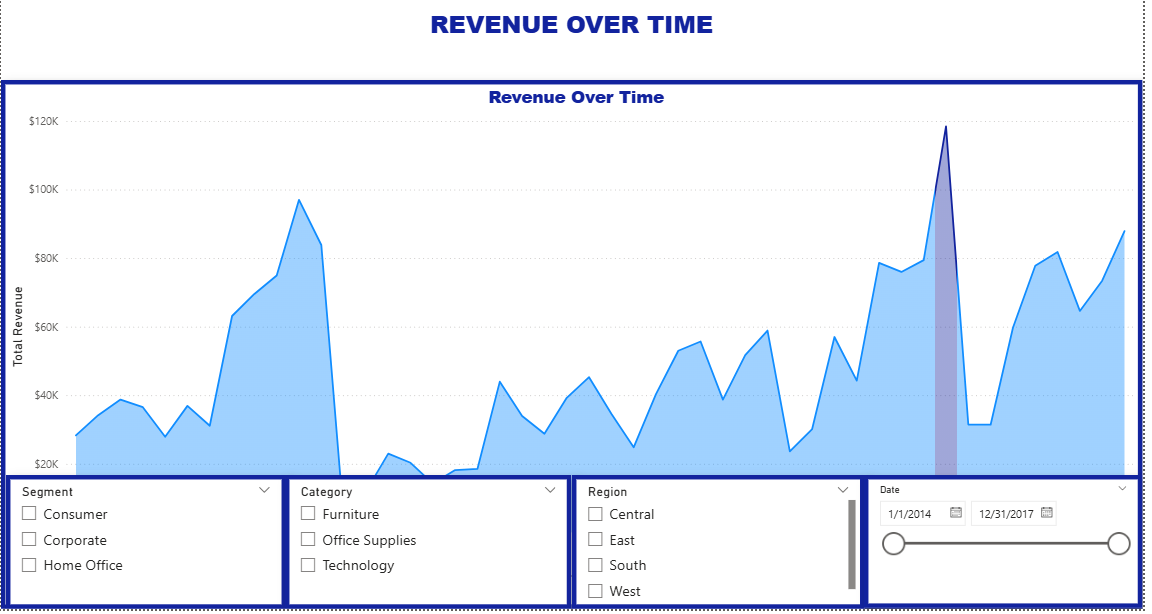

The page's visual inventory and layout, read from the dashboard file:
{"tool":"powerbi","page":{"name":"Trends","canvas":[1280,720],"ordinal":4},"visuals":[{"type":"lineChart","title":"Revenue Over Time","fields":{"Y":["Dates.Total Revenue"],"Category":["Dates.MonthName","Dates.Year"]},"box":[0,126.7,1280,593.3],"z":0},{"type":"textbox","box":[0,0,1279.6,12.3],"z":1000},{"type":"slicer","fields":{"Values":["Orders.Segment"]},"box":[5.1,569.3,313.6,150.4],"z":2000},{"type":"slicer","fields":{"Values":["Orders.Category"]},"box":[318.7,569.3,321.3,150.4],"z":3000},{"type":"slicer","fields":{"Values":["Orders.Region"]},"box":[640,569.3,327.7,150.4],"z":4000},{"type":"slicer","fields":{"Values":["Dates.Date"]},"box":[967.7,569.3,312.3,149.1],"z":5000},{"type":"textbox","box":[0,40.4,1279.6,48.2],"z":6000}]}

Visuals, with their boxes on the page's 1280x720 design canvas (x1, y1, x2, y2). These are canvas units, not pixel positions in the 1152x614 screenshot, which may show the page scaled, cropped or inside an application window:
"Revenue Over Time" lineChart: [0,127,1280,720]
textbox: [0,0,1280,12]
slicer - Orders.Segment: [5,569,319,720]
slicer - Orders.Category: [319,569,640,720]
slicer - Orders.Region: [640,569,968,720]
slicer - Dates.Date: [968,569,1280,718]
textbox: [0,40,1280,89]
